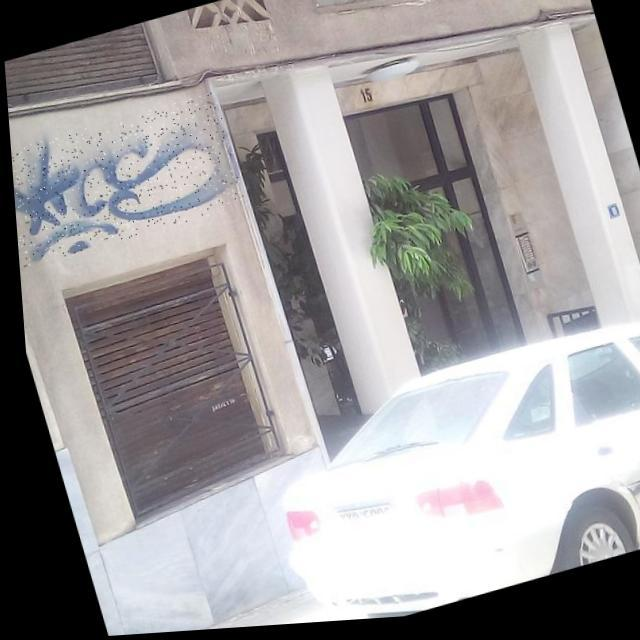-: (6, 93, 247, 269)
